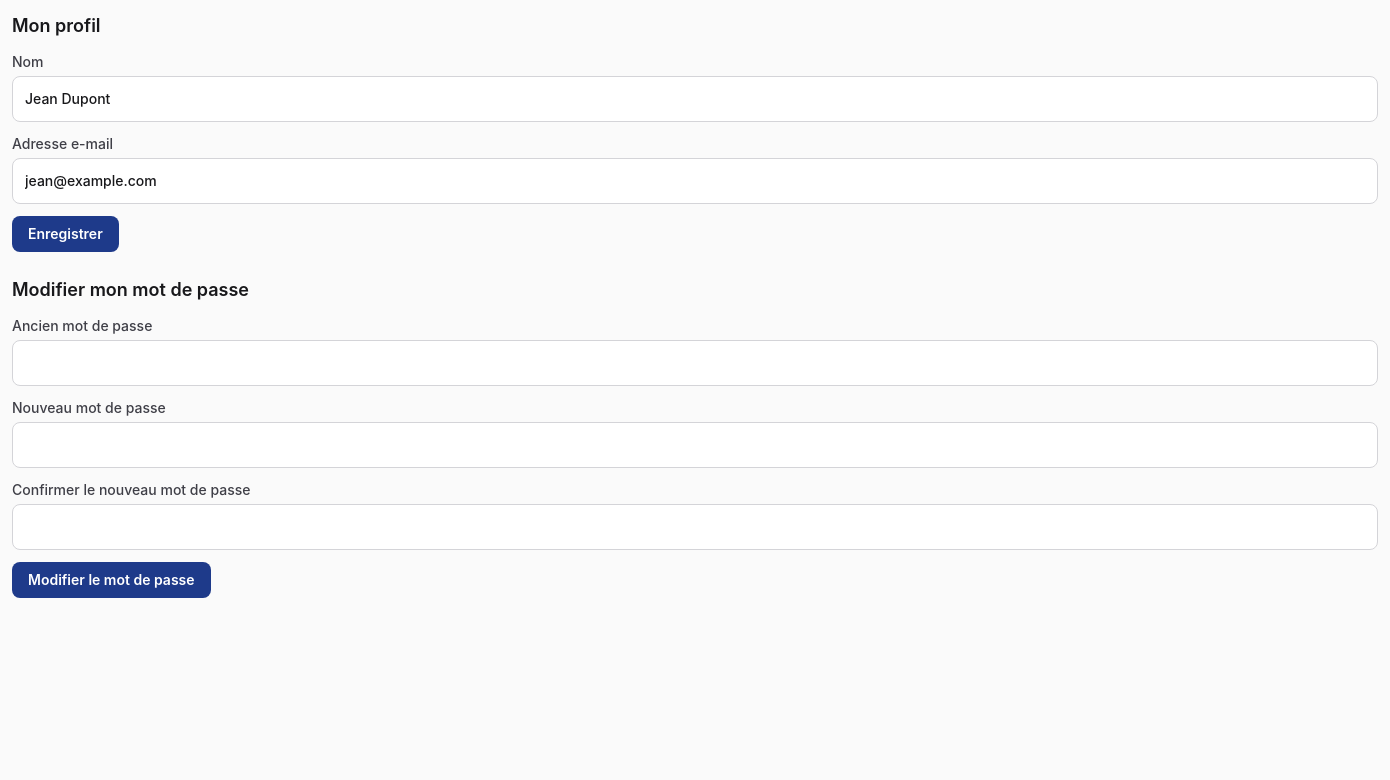
Scenario: ProfilUtilisateur › demande la confirmation d'un changement d'adresse e-mail
Expected: the field labelled "Nom" is shown, [12,76,1378,122]
Replace the text in the field labelled "Adresse e-mail" with "nouvelle@example.com". click: (695, 181)
box: [12,158,1378,204]
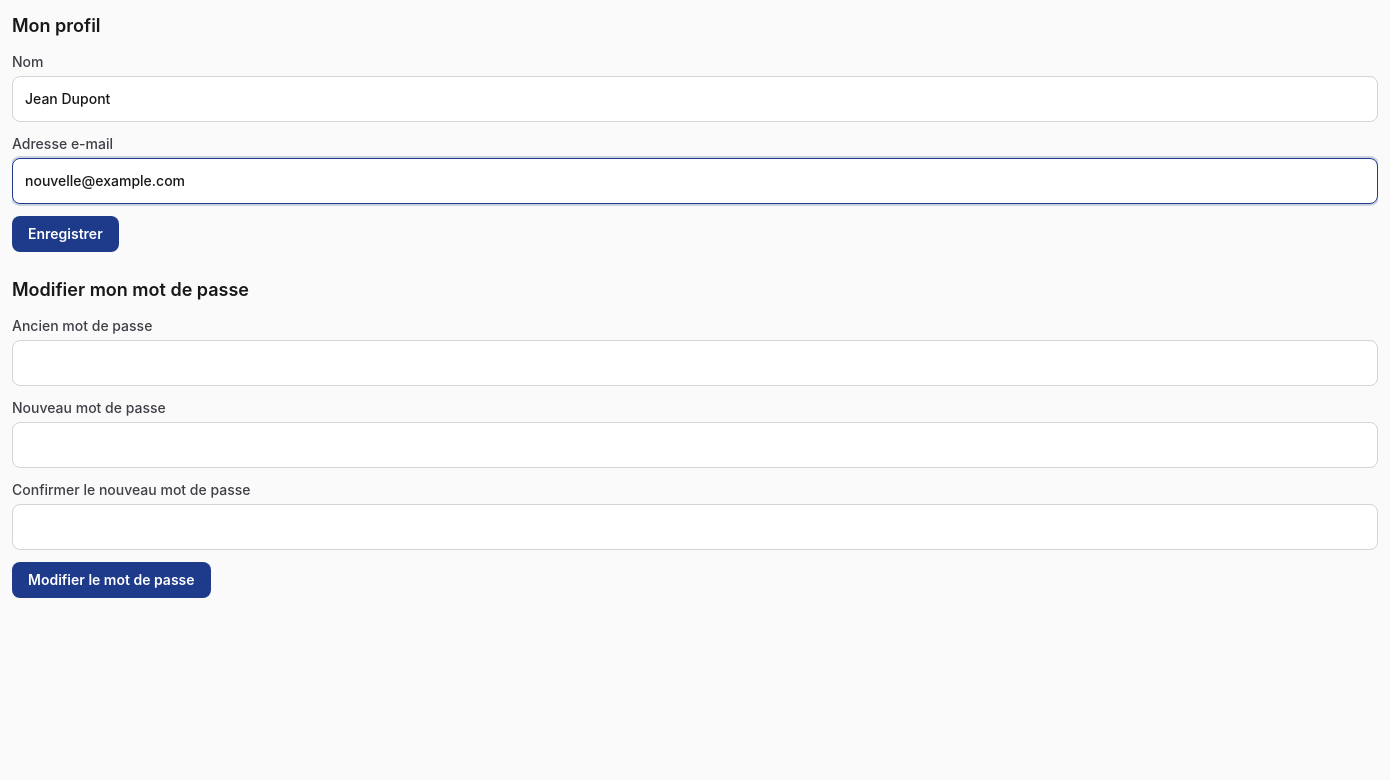
Click the button "Enregistrer". click: (65, 234)
box: [12,216,119,252]
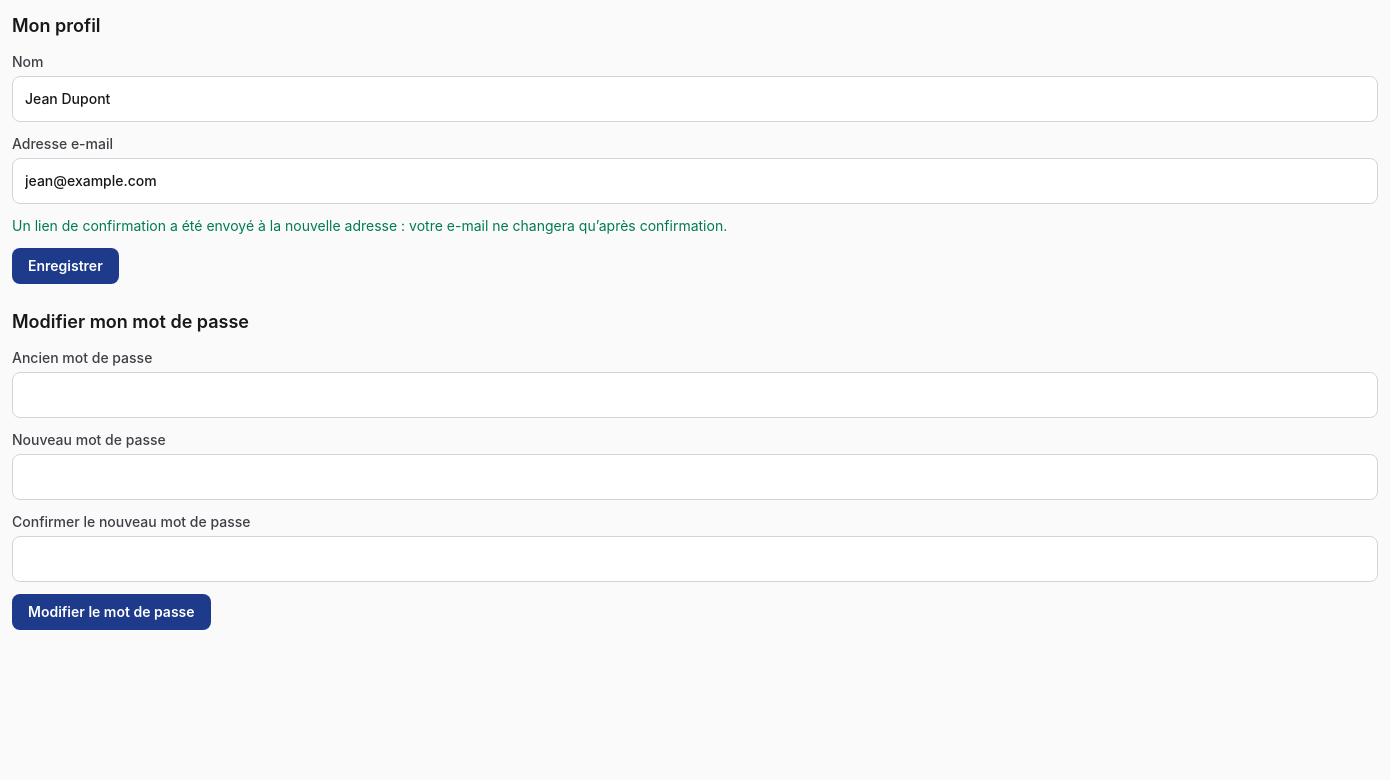
Expected: the text "lien de confirmation" is shown, [12,217,727,234]
